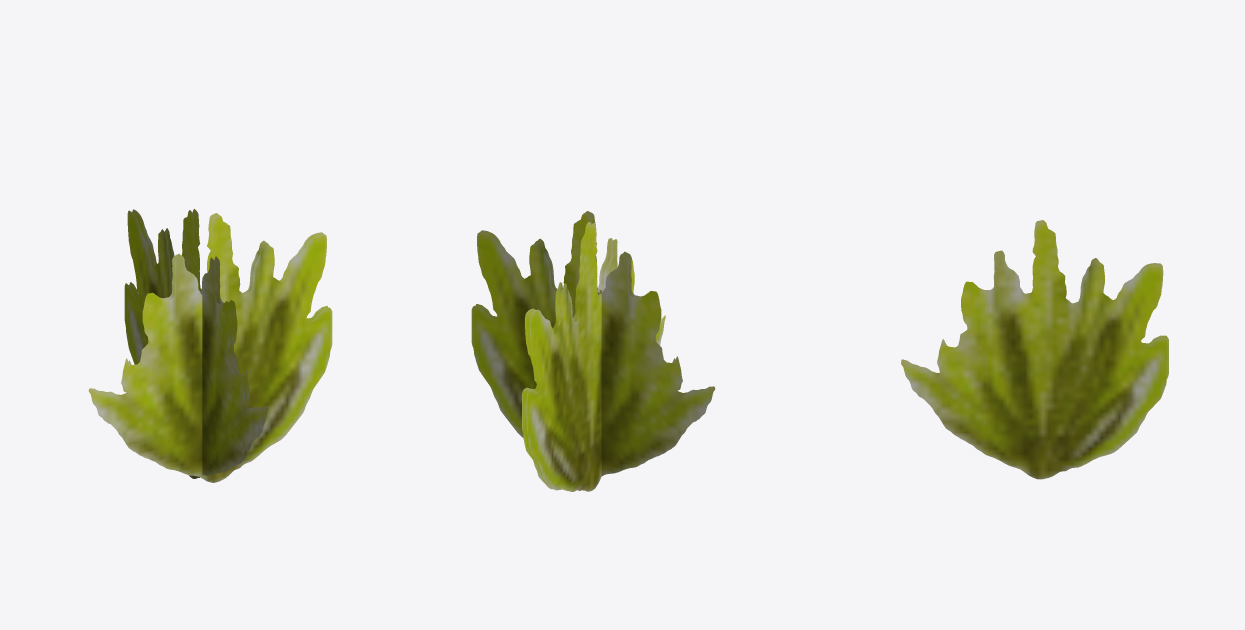
Rendered from Grass1.fbx.
3 views of the same model, side by side, from view 1: azimuth 30°, elevation 25°; view 2: azimuth 150°, elevation 25°; view 3: azimuth 270°, elevation 25° (orthographic). The views are drawn at different scales.
Visible parts, largest first — view 1: Grass1; view 2: Grass1; view 3: Grass1.
Boxes of the visible parts, x1,y1,x2,y2 form: Grass1: (88, 209, 332, 482); Grass1: (471, 211, 715, 491); Grass1: (901, 220, 1168, 479).
Size of the model in its own units: 319 by 365 by 319.
Materials: 1 (1 with a texture image).
